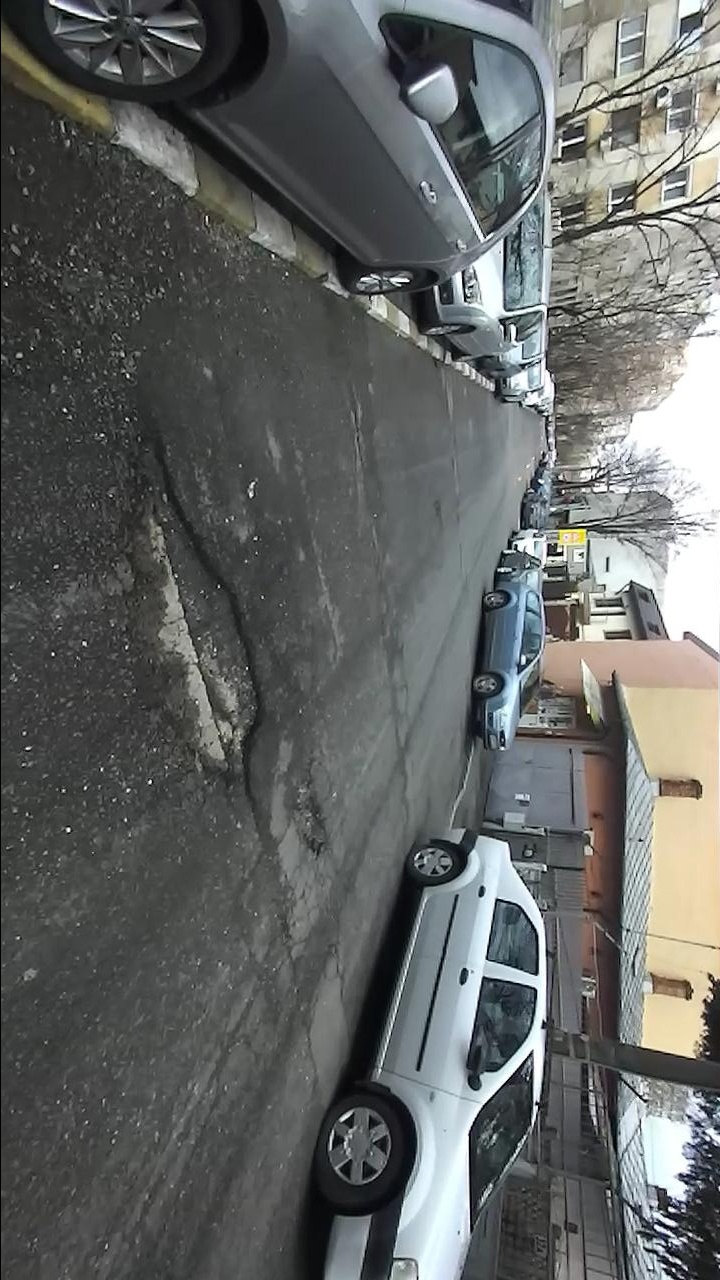pothole: (111, 402, 272, 839), (292, 763, 340, 864), (341, 388, 371, 474)
